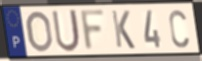4: (143, 9, 162, 50)
C: (168, 8, 191, 49)
F: (79, 8, 108, 53)
K: (110, 9, 137, 50)
O: (26, 9, 55, 53)
U: (50, 8, 82, 54)
